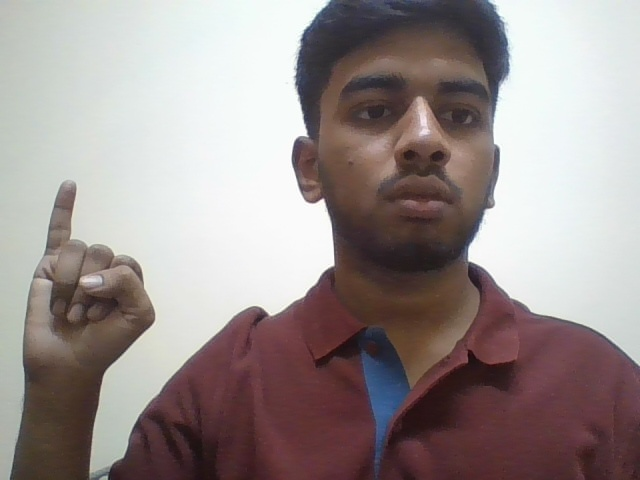I: (20, 163, 165, 398)
